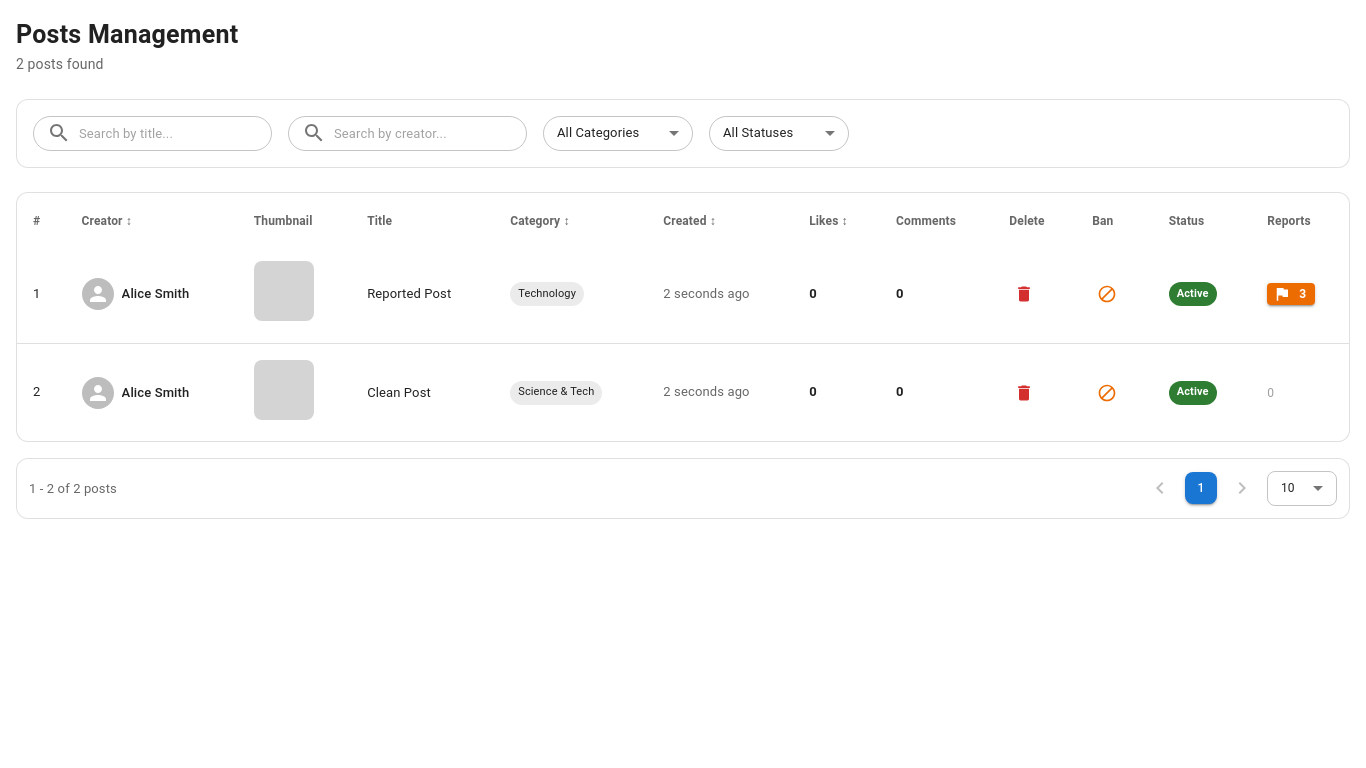
Test case: AdminCardsPanel — Reports column › shows empty state when no reporters are returned
What coordinates should you click on to do the following:
click the button named "view 3 reporters"
I would click on:
 (1291, 294)
Its box is [1267,283,1314,305].
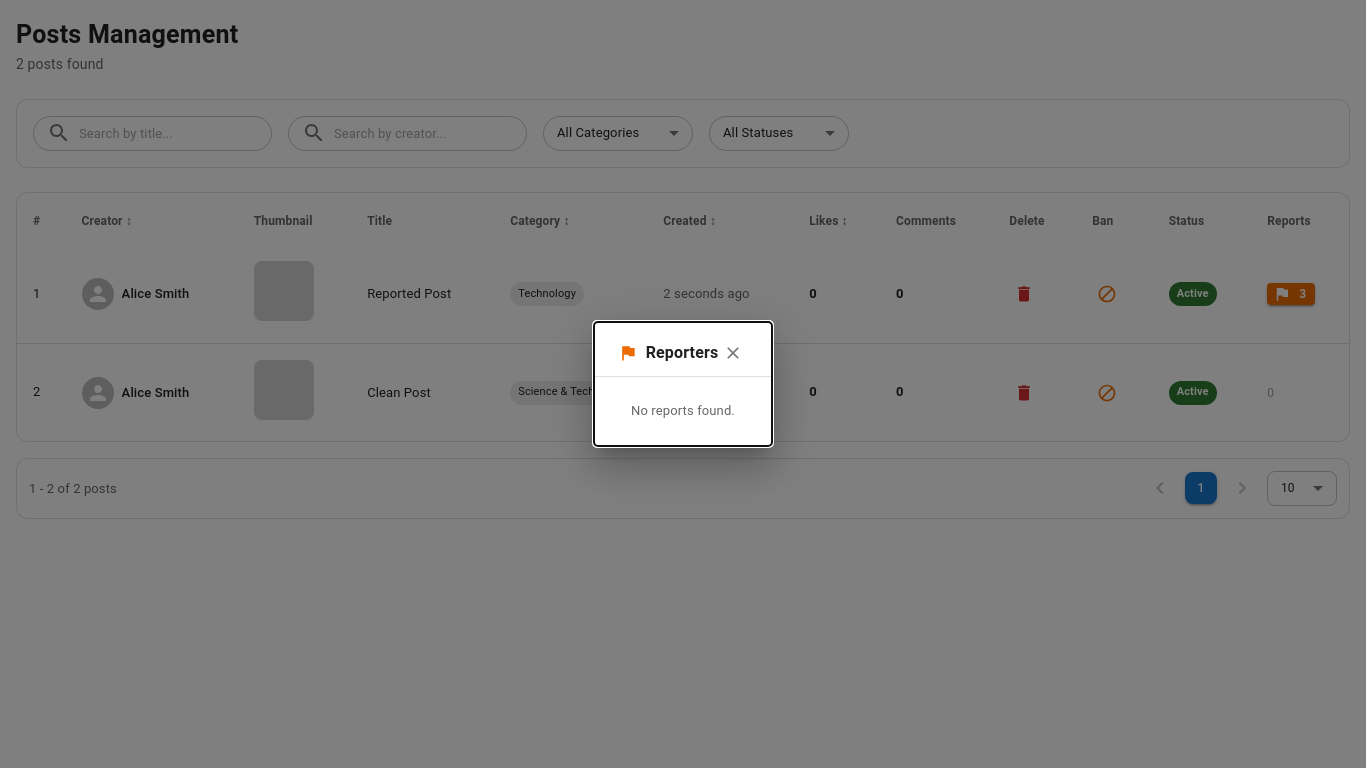
Expected: the text "No reports found." is shown, [631,403,735,418]
